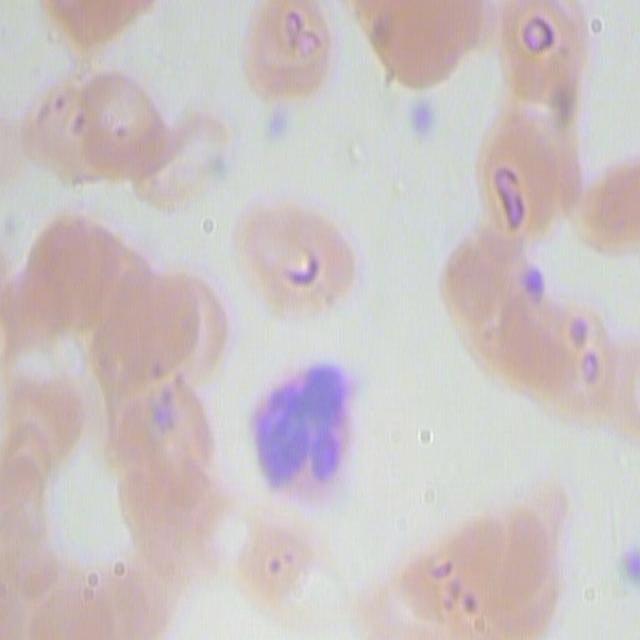RBC: (404, 486, 554, 637), (25, 56, 178, 192), (232, 192, 363, 328), (534, 268, 637, 435), (480, 93, 579, 253), (363, 0, 491, 83), (496, 2, 584, 120), (240, 0, 340, 103), (31, 0, 160, 43)
WBC: (243, 338, 361, 533)
platelets: (515, 258, 553, 312), (616, 526, 640, 600), (406, 93, 440, 145), (260, 104, 290, 148)
